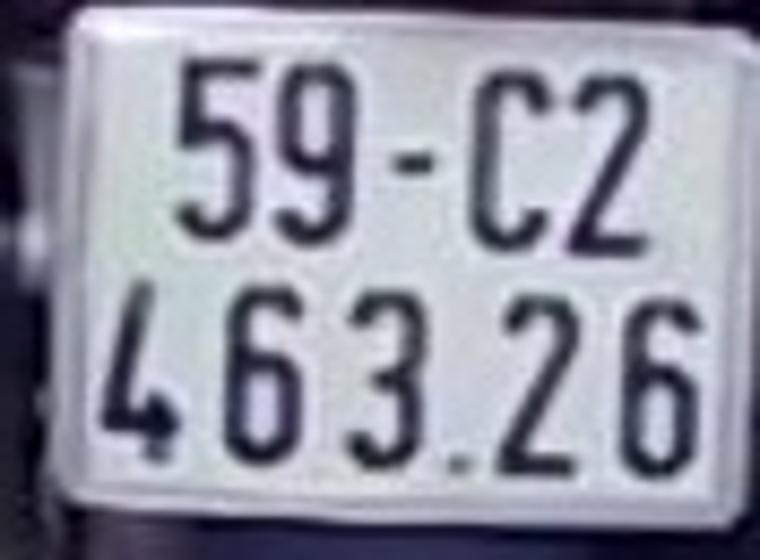-: (381, 142, 441, 181)
.: (445, 447, 481, 479)
2: (563, 65, 664, 263), (490, 289, 588, 483)
3: (338, 274, 435, 483)
4: (90, 276, 187, 479)
5: (174, 56, 261, 252)
6: (218, 271, 315, 477), (617, 286, 710, 488)
9: (272, 62, 366, 253)
C: (464, 64, 557, 257)
